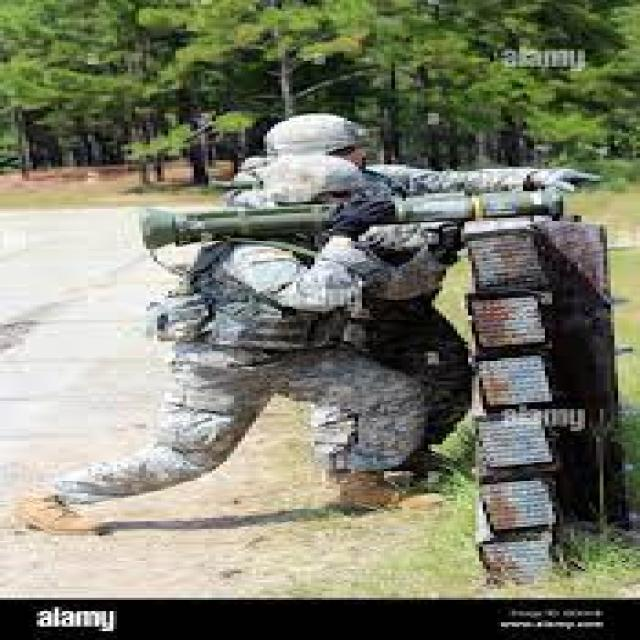bazooka: (133, 185, 563, 259)
